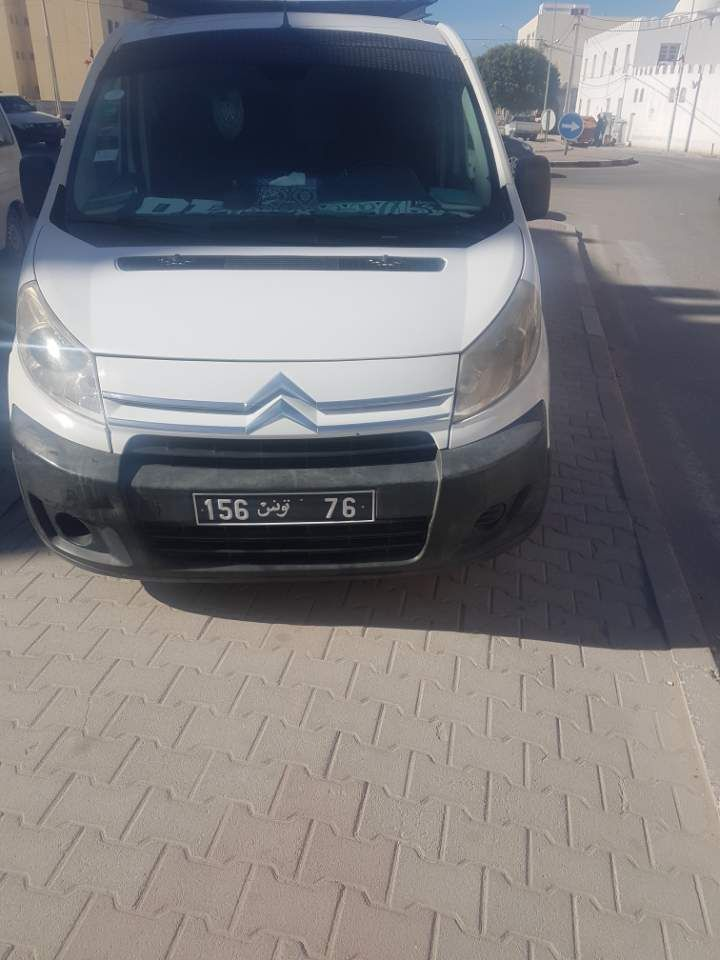LP: (192, 490, 376, 526)
